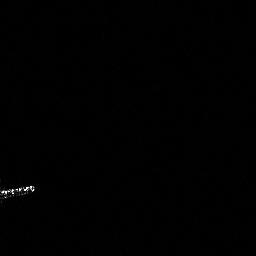ship: (1, 185, 35, 199)
